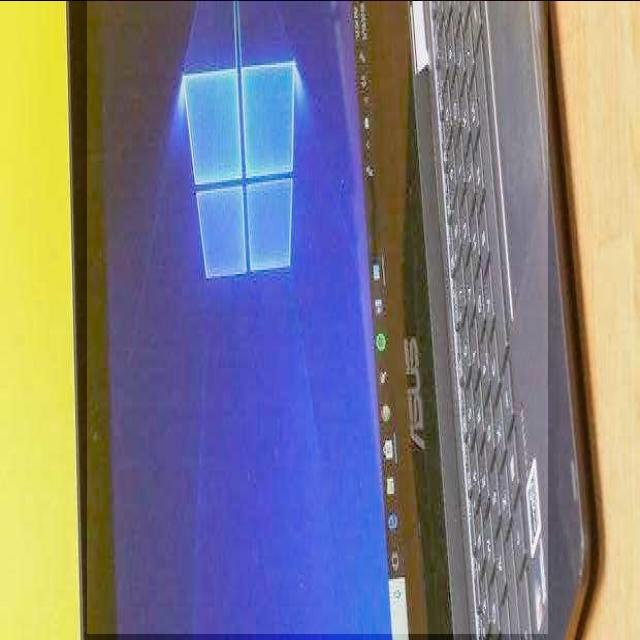-keyboard-: (87, 0, 548, 634)
